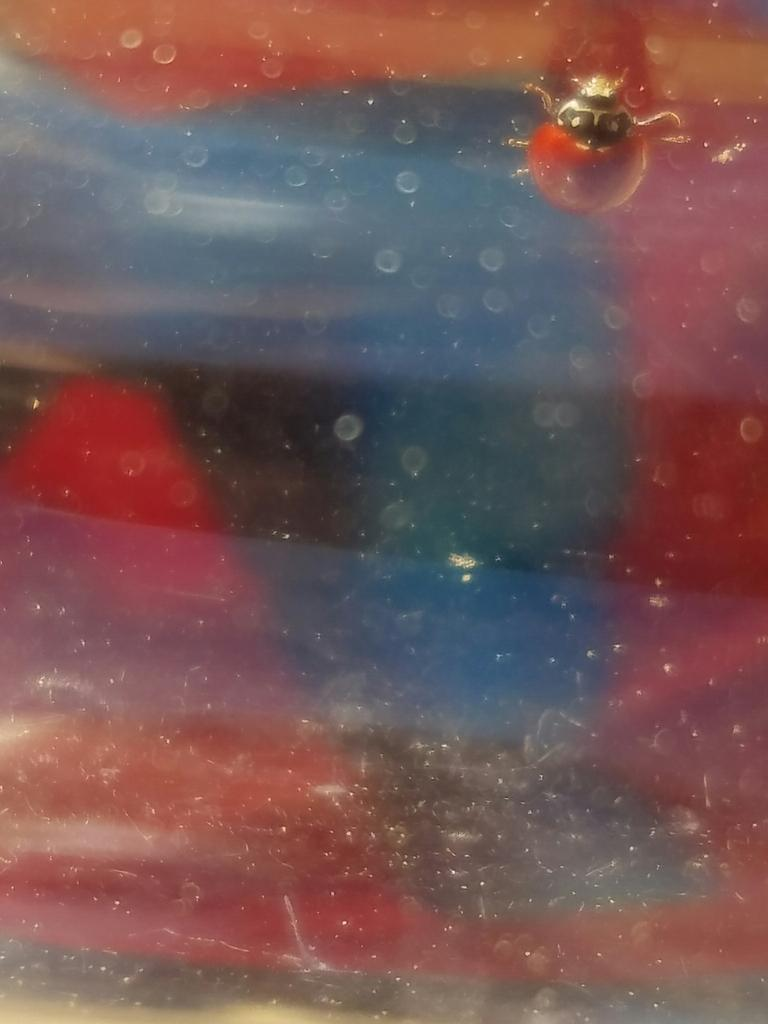ladybug: (506, 64, 686, 219)
